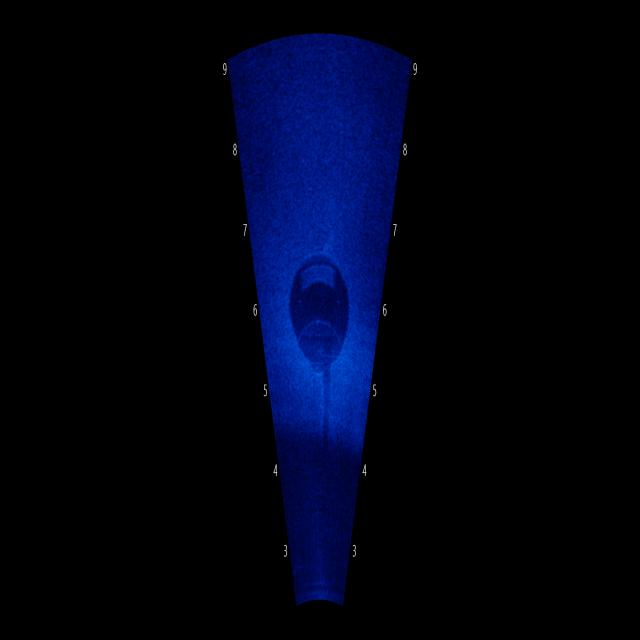circle: (289, 223, 353, 374)
